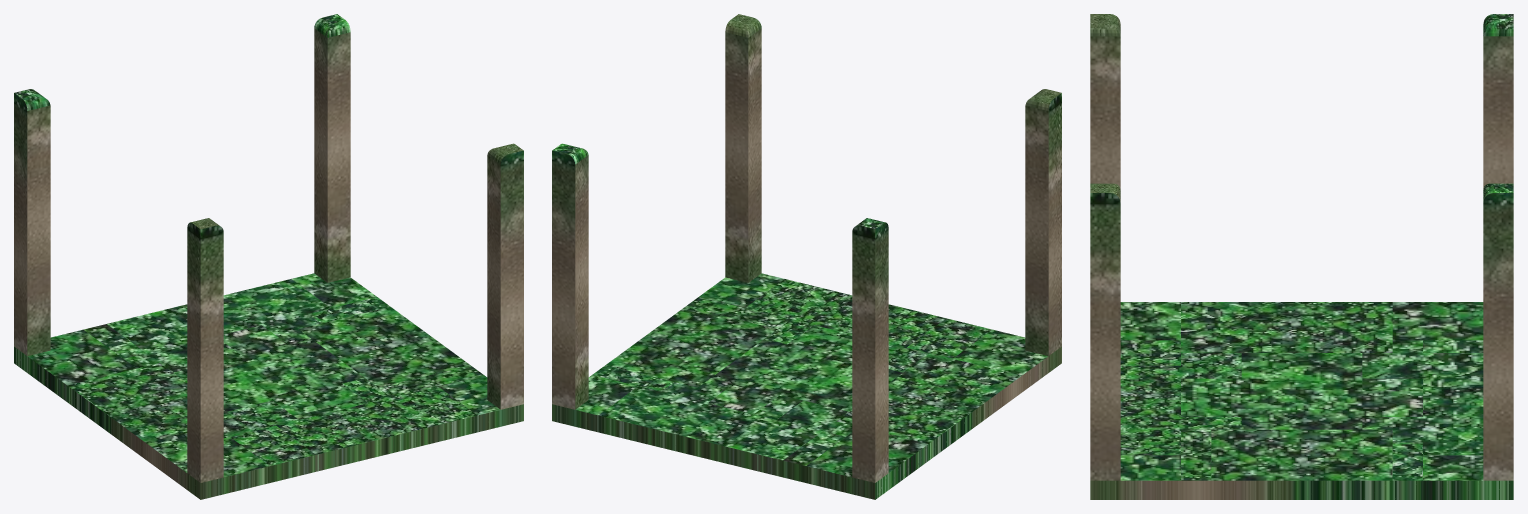
The model's file is cross.obj.
3 renders of one model, left to right at view 1: azimuth 30°, elevation 25°; view 2: azimuth 150°, elevation 25°; view 3: azimuth 270°, elevation 25°, orthographic. The views are drawn at different scales.
Visible parts, largest first — view 1: Plane.003_Plane.004; view 2: Plane.003_Plane.004; view 3: Plane.003_Plane.004.
Part boxes in pixels (x1,y1,x2,y2): Plane.003_Plane.004: [14, 14, 523, 499]; Plane.003_Plane.004: [552, 14, 1061, 499]; Plane.003_Plane.004: [1090, 14, 1513, 499].
Size of the model in its own units: 2 by 1.6 by 2.
1 material, 1 textured.
